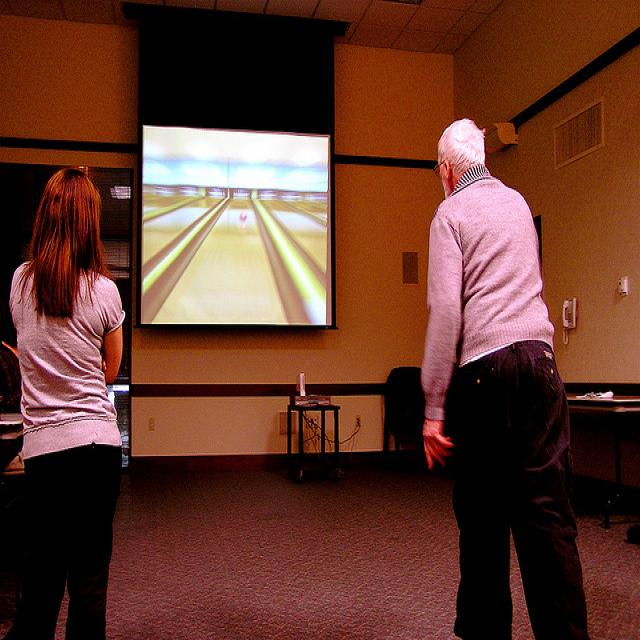chair: (382, 367, 428, 463)
dining table: (565, 391, 640, 530)
